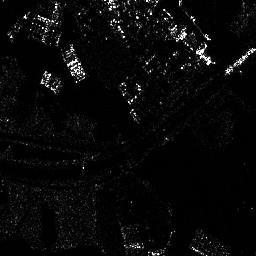ship: (178, 2, 211, 41), (225, 47, 254, 74)
